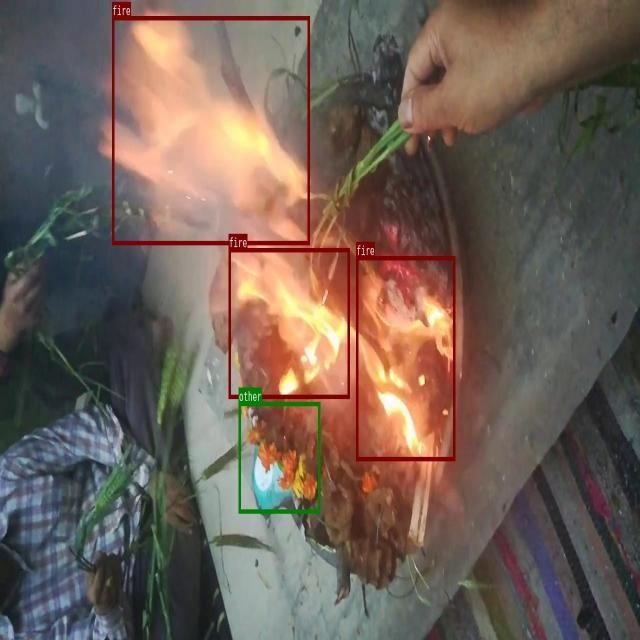fire: (112, 15, 309, 244), (356, 256, 455, 460), (229, 248, 350, 398)
